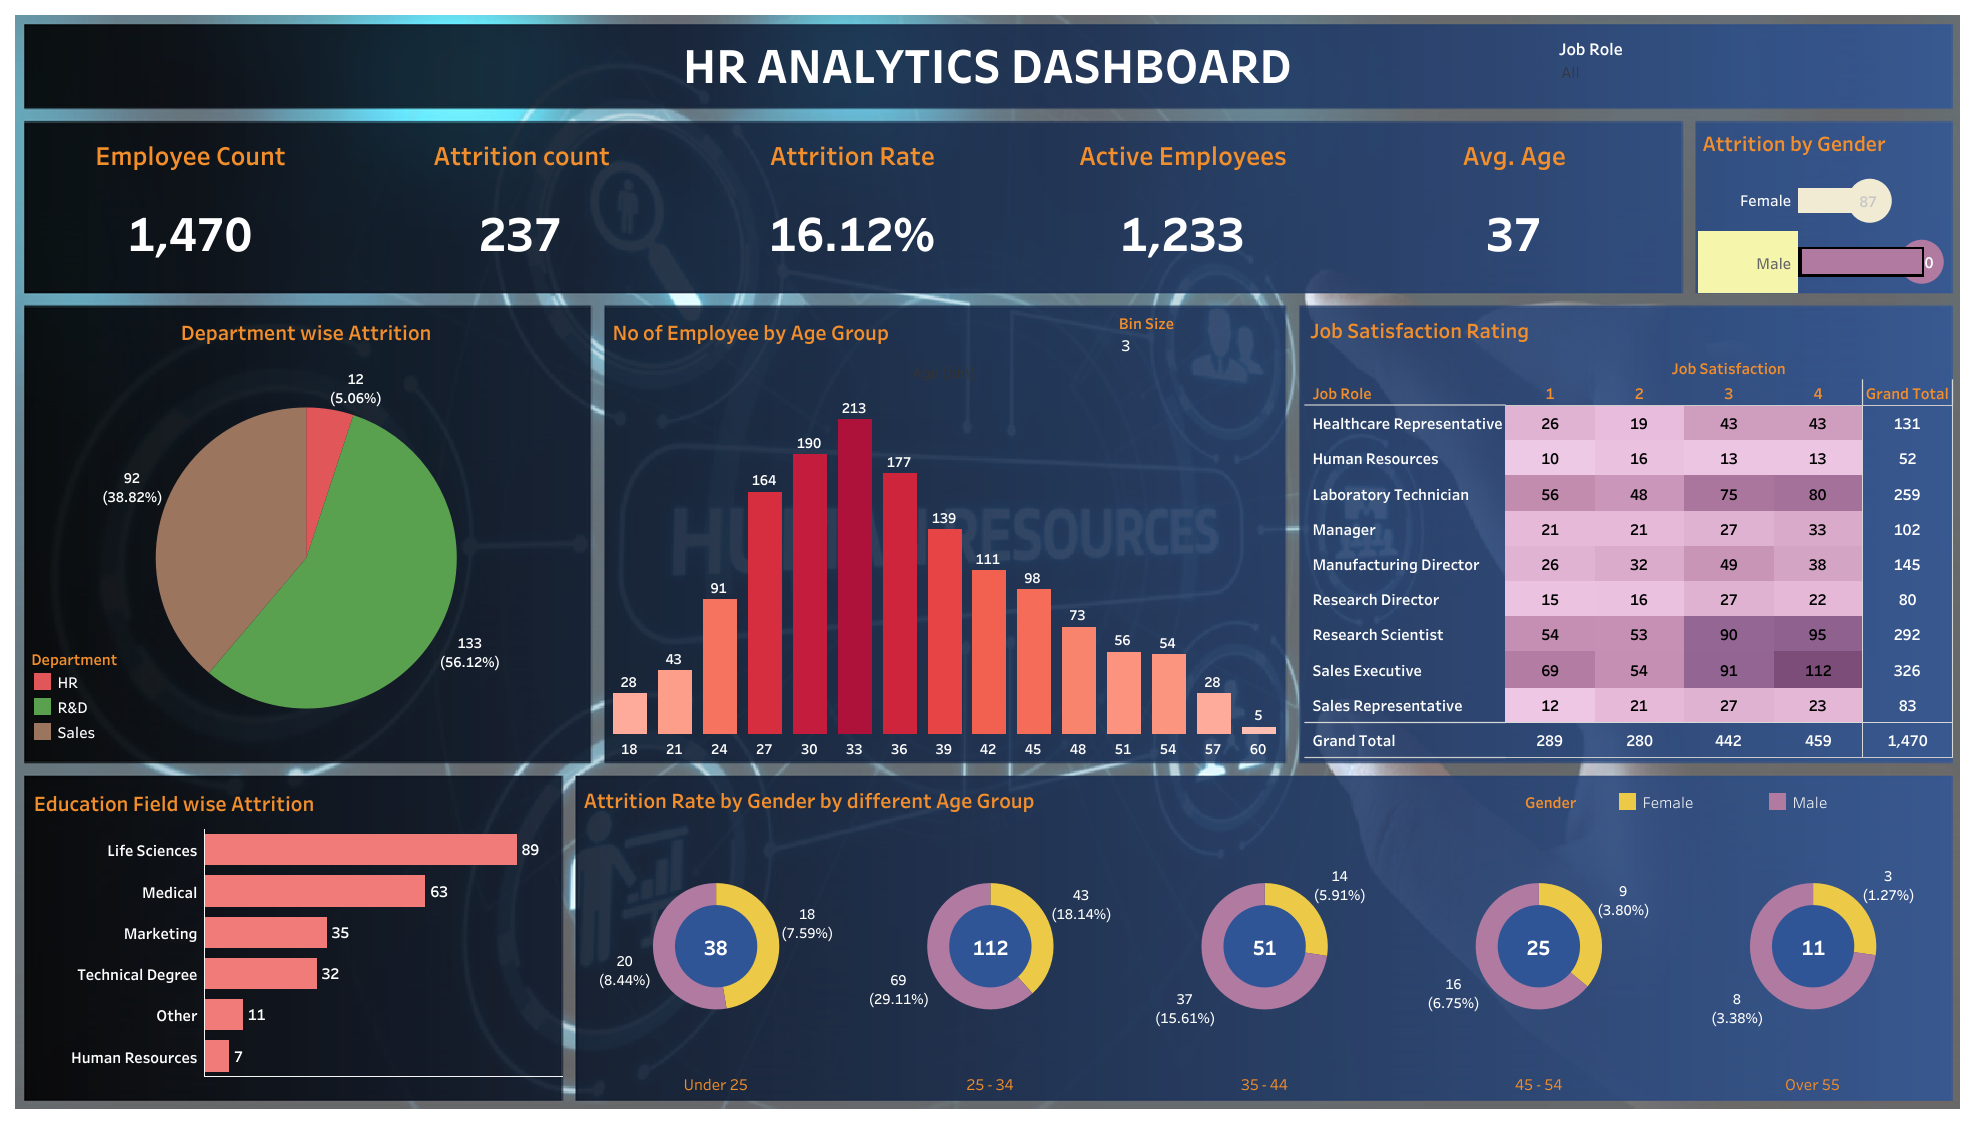

This screenshot's page, from the dashboard's own definition file:
{"tool":"tableau","page":{"name":"HR Analytics Dashboard","canvas":[1580,900],"ordinal":0},"visuals":[{"type":"image","param":"Image/HR dash background pic.png","box":[8,8,1564,884]},{"type":"text","box":[21,23,1538,55]},{"type":"filter","title":"Job Satisfaction Rating","param":"[federated.0gxm7151y9xf1118mp1k51tgy1kv].[none:Job Role:nk]","box":[1247,28,190,56]},{"type":"worksheet","title":"Attrition by Gender","mark":"Automatic","rows":["Gender"],"cols":["Calculation_958985252604612608","Calculation_958985252604612608"],"box":[1358,97,202,137]},{"type":"worksheet","title":"KPIs","mark":"Automatic","box":[20,98,1324,134]},{"type":"worksheet","title":"Job Satisfaction Rating","mark":"Square","rows":["Job Role"],"cols":["Job Satisfaction"],"box":[1044,246,519,361]},{"type":"worksheet","title":"Department wise Attrition","mark":"Pie","box":[24,248,442,358]},{"type":"worksheet","title":"No of Employee by Age Group","mark":"Automatic","rows":["Employee Count"],"cols":["Age (bin)"],"box":[486,248,538,359]},{"type":"parameter","param":"[Parameters].[Parameter 1]","box":[895,248,131,71]},{"type":"legend","title":"Department wise Attrition","param":"[federated.0gxm7151y9xf1118mp1k51tgy1kv].[none:Department:nk]","box":[24,516,99,85]},{"type":"worksheet","title":"Attrition Rate by Gender by different Age Group","mark":"Pie","rows":["Calculation_958985252637941768","Calculation_958985252637970442"],"cols":["CF_age band"],"box":[463,622,1097,254]},{"type":"worksheet","title":"Education Field wise Attrition","mark":"Automatic","rows":["Education Field"],"cols":["Calculation_958985252604612608"],"box":[23,625,427,252]},{"type":"legend","title":"Attrition Rate by Gender by different Age Group","param":"[federated.0gxm7151y9xf1118mp1k51tgy1kv].[none:Gender:nk]","box":[1220,631,338,37]}]}

Visuals, with their boxes in screenshot pixels (x1, y1, x2, y2), scaled from the page's 1580x900 canvas onto the 1974x1124 screenshot:
image: l=10, t=10, r=1964, b=1114
text: l=26, t=29, r=1948, b=97
"Job Satisfaction Rating" filter: l=1558, t=35, r=1795, b=105
"Attrition by Gender" worksheet: l=1697, t=121, r=1949, b=292
"KPIs" worksheet: l=25, t=122, r=1679, b=290
"Job Satisfaction Rating" worksheet (Square marks): l=1304, t=307, r=1953, b=758
"Department wise Attrition" worksheet (Pie marks): l=30, t=310, r=582, b=757
"No of Employee by Age Group" worksheet: l=607, t=310, r=1279, b=758
parameter: l=1118, t=310, r=1282, b=398
"Department wise Attrition" legend: l=30, t=644, r=154, b=751
"Attrition Rate by Gender by different Age Group" worksheet (Pie marks): l=578, t=777, r=1949, b=1094
"Education Field wise Attrition" worksheet: l=29, t=781, r=562, b=1095
"Attrition Rate by Gender by different Age Group" legend: l=1524, t=788, r=1947, b=834
